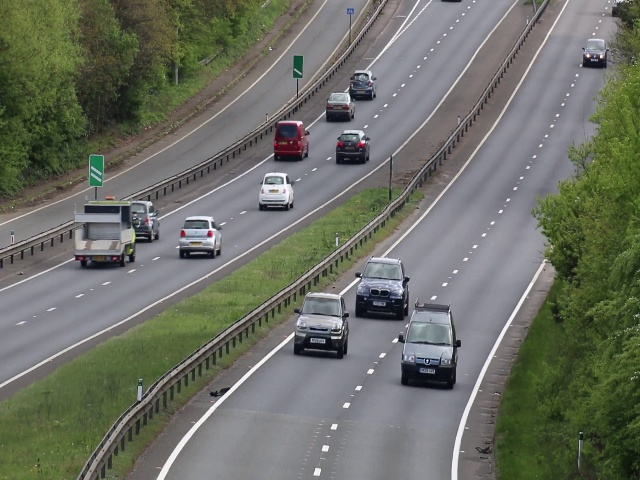car: (400, 307, 459, 389), (71, 199, 138, 268), (294, 291, 350, 360), (356, 256, 408, 318), (179, 215, 223, 257), (274, 119, 309, 162), (258, 171, 295, 211), (334, 129, 371, 164), (137, 197, 159, 242), (326, 90, 355, 120), (349, 68, 376, 99), (583, 35, 607, 69)
